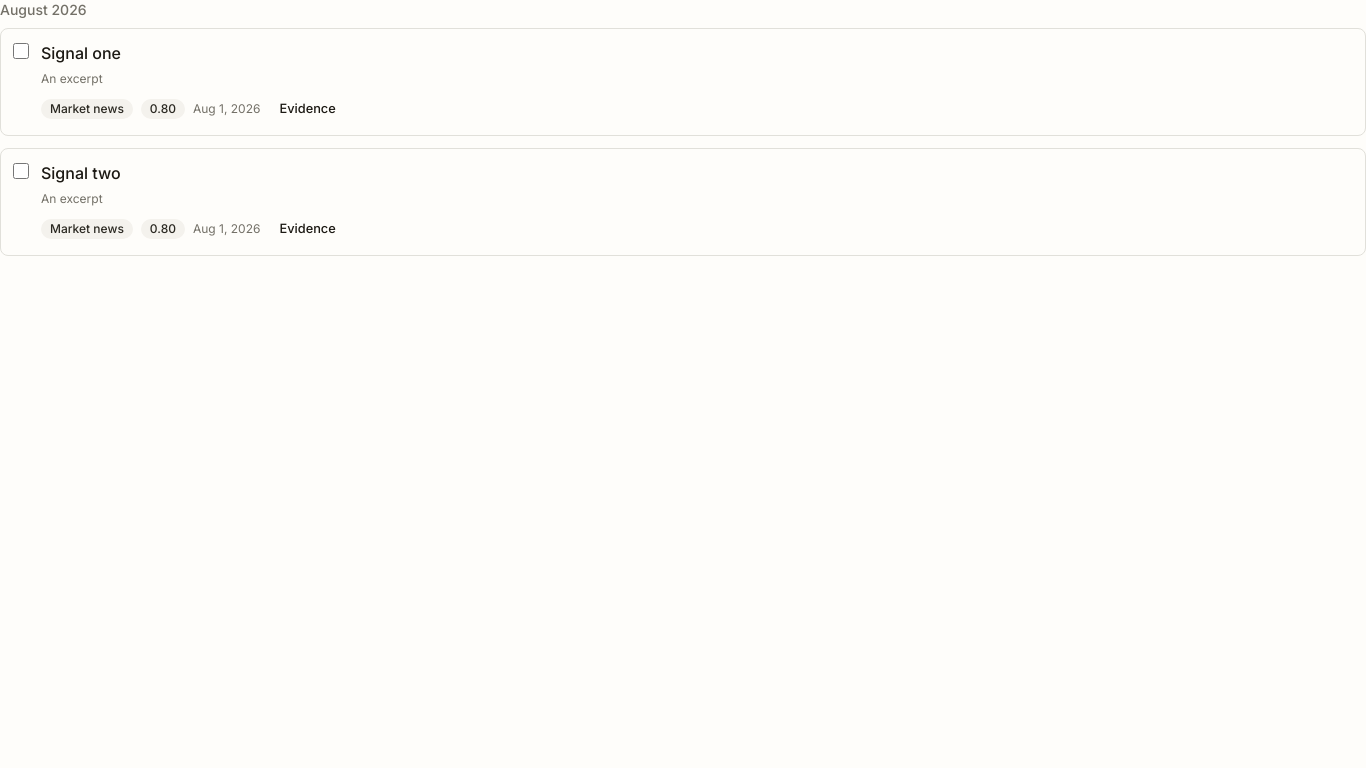
Test: SignalsList — bulk delete › uses singular wording for one signal
What coordinates should you click on to do the following:
click the checkbox named "Select Signal one"
I would click on:
 (21, 51)
Its box is [13,43,29,59].
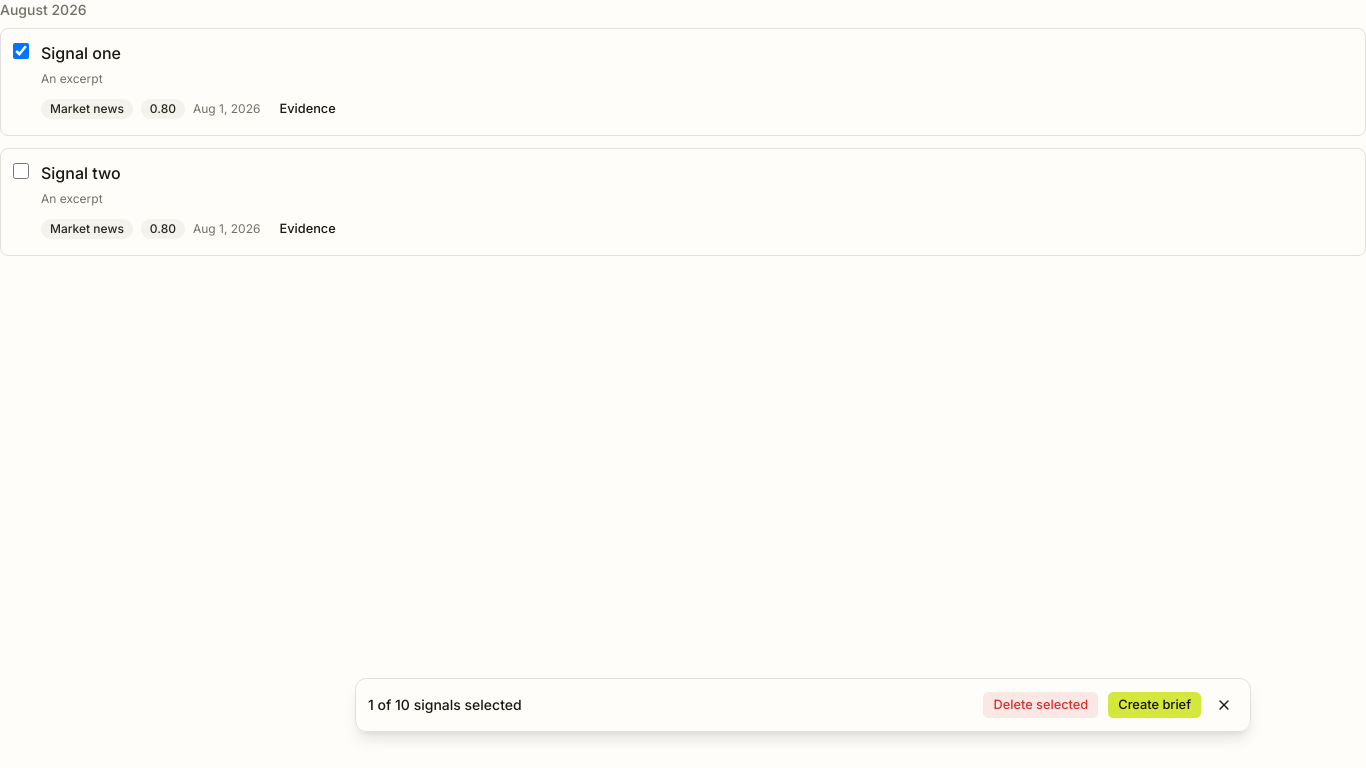
What coordinates should you click on to do the following:
click the button "Delete selected"
I would click on:
 (1041, 705)
Its box is [982,691,1099,719].
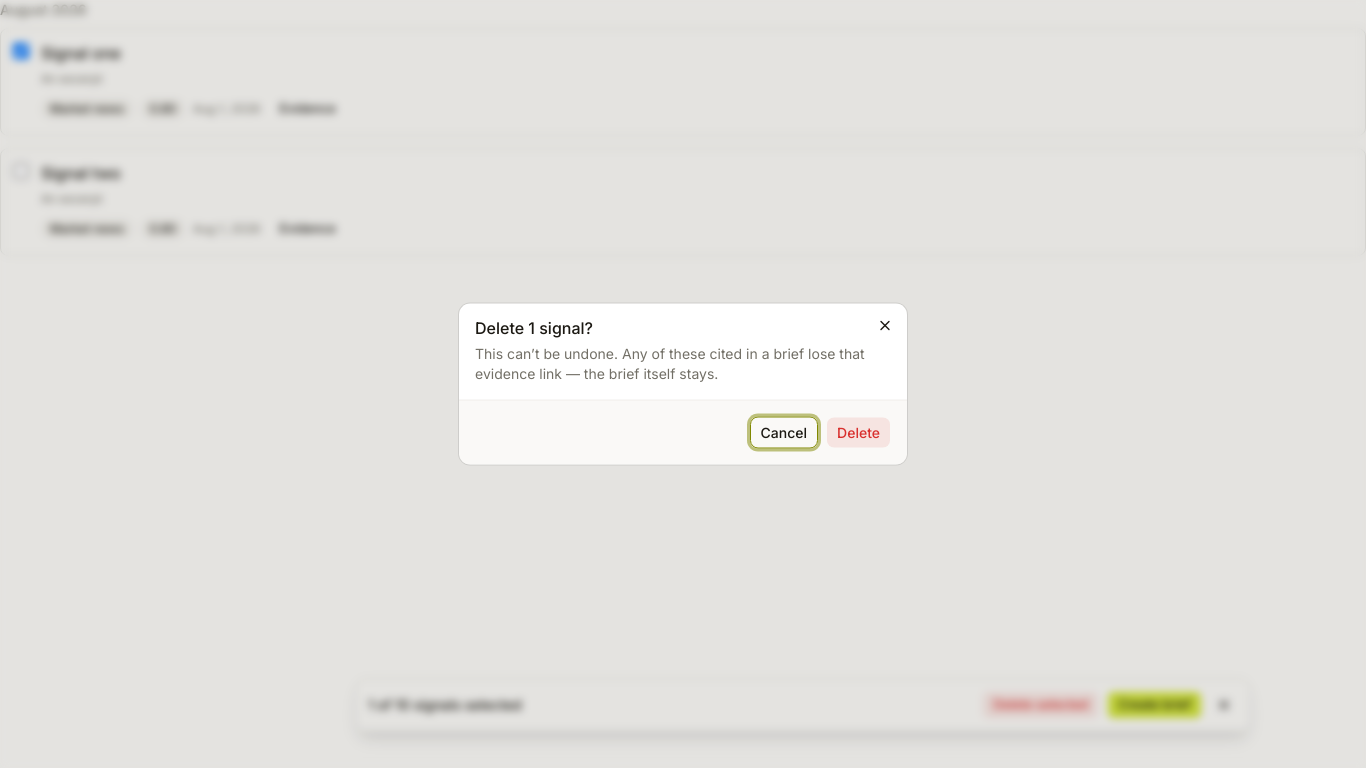
Expected: the heading "Delete 1 signal?" is shown, [475,318,593,338]
